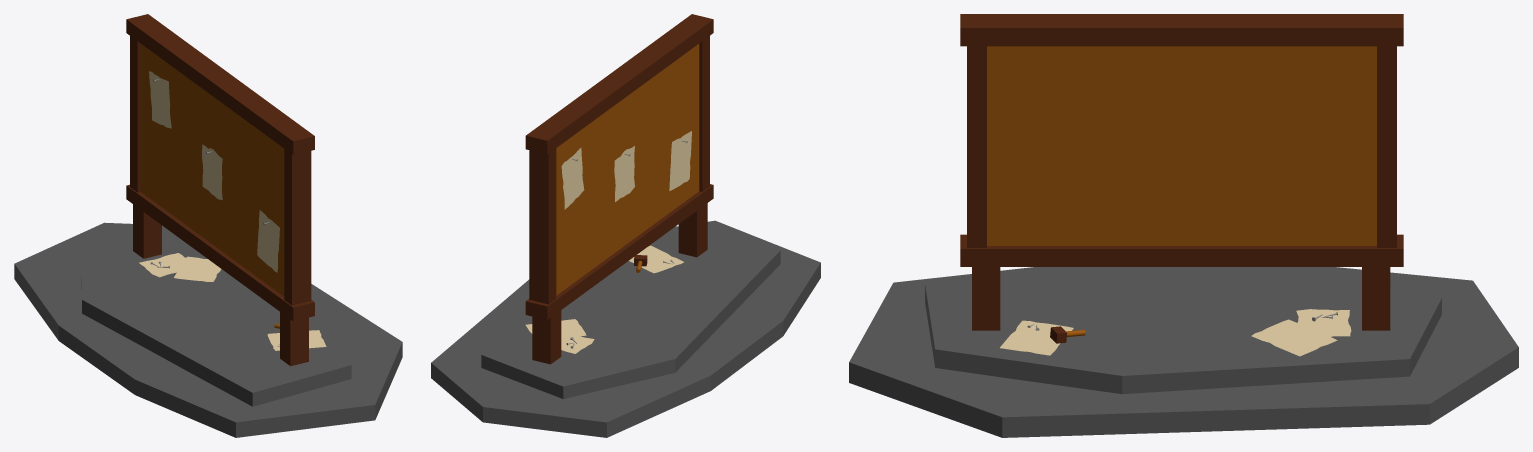
The model's file is wanted_board.fbx.
The picture shows the model from 3 angles, left to right: view 1: azimuth 30°, elevation 25°; view 2: azimuth 150°, elevation 25°; view 3: azimuth 270°, elevation 25°; orthographic projection. The views are drawn at different scales.
Parts seen in each view (by area): view 1: stone_foundation, wanted_board, pages.1, page.3, page.1, page.2, page.4; view 2: stone_foundation, wanted_board, page.3, page.1, page.2, pages.1, page.4; view 3: wanted_board, stone_foundation, pages.1, page.4.
Part boxes in pixels (x1,y1,x2,y2): stone_foundation: (14,222,402,437); wanted_board: (126,14,314,366); pages.1: (139,253,221,281); page.3: (257,210,279,272); page.1: (149,71,171,128); page.2: (202,144,222,200); page.4: (267,330,326,350); stone_foundation: (431,220,820,437); wanted_board: (525,14,713,364); page.3: (669,131,691,190); page.1: (561,147,584,209); page.2: (614,146,634,201); pages.1: (525,319,594,353); page.4: (629,245,683,273); wanted_board: (960,14,1403,330); stone_foundation: (849,267,1518,437); pages.1: (1251,309,1351,356); page.4: (1000,320,1073,355).
Bounding box in the file's own units: 728 × 745 × 1319.
